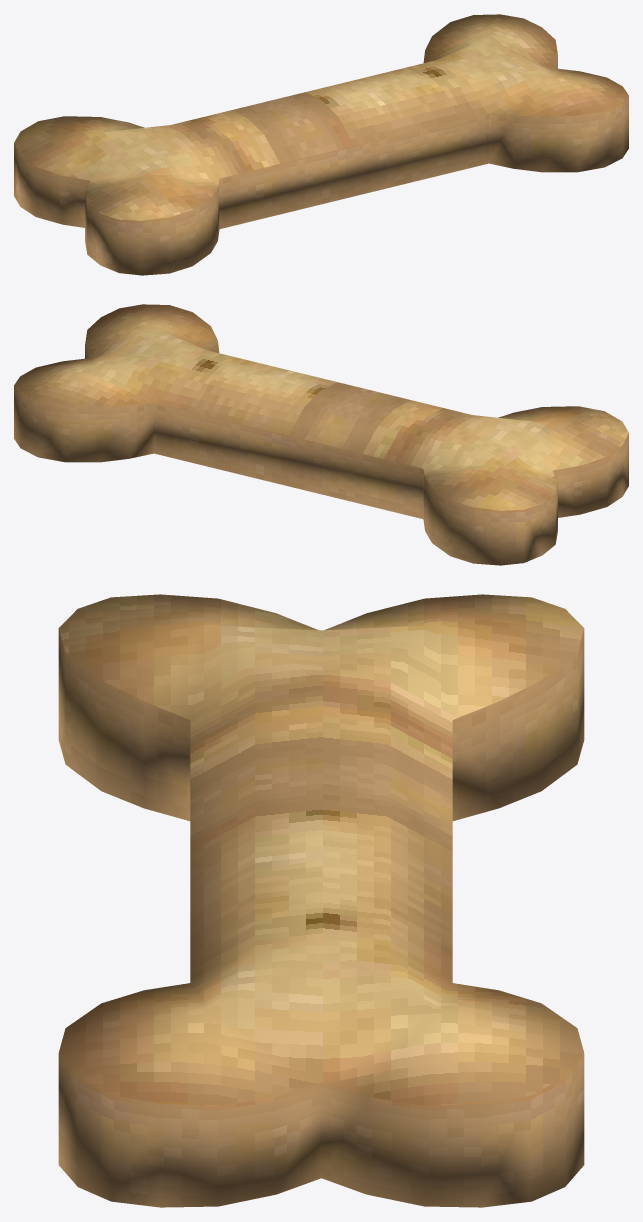
Rendered from bone.obj.
3 renders of one model, top to bottom at view 1: azimuth 30°, elevation 25°; view 2: azimuth 150°, elevation 25°; view 3: azimuth 270°, elevation 25°, orthographic. The views are drawn at different scales.
Visible parts, largest first — view 1: _0_0_node; view 2: _0_0_node; view 3: _0_0_node.
Part boxes in pixels (left/top/right/bottom): _0_0_node: left=14, top=14, right=628, bottom=275; _0_0_node: left=14, top=304, right=628, bottom=565; _0_0_node: left=58, top=594, right=584, bottom=1207.
Size of the model in its own units: 0.8682 by 0.1141 by 0.3784.
Materials: 1 (1 with a texture image).
